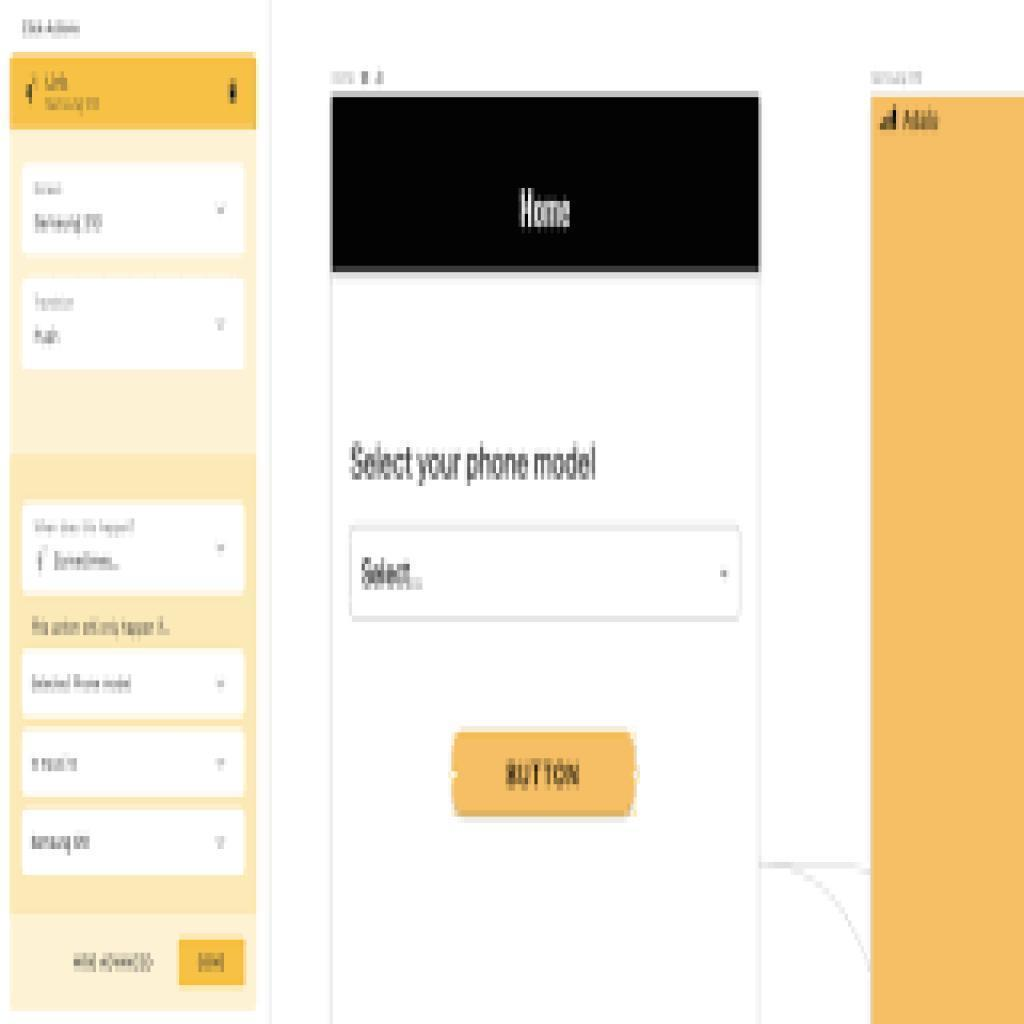button: (455, 734, 636, 817)
dropdown: (348, 524, 747, 622), (26, 503, 249, 596), (18, 280, 240, 373), (28, 166, 244, 250), (26, 646, 244, 723), (28, 734, 245, 804), (28, 814, 244, 877)
